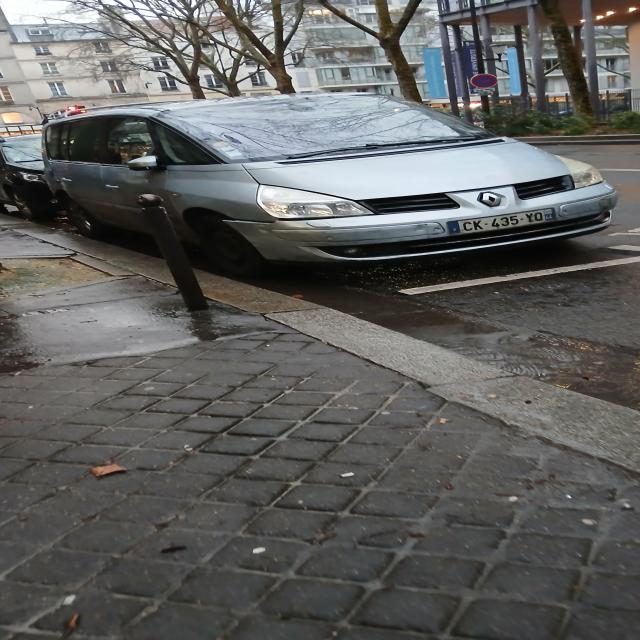Autre: (438, 202, 570, 234)
